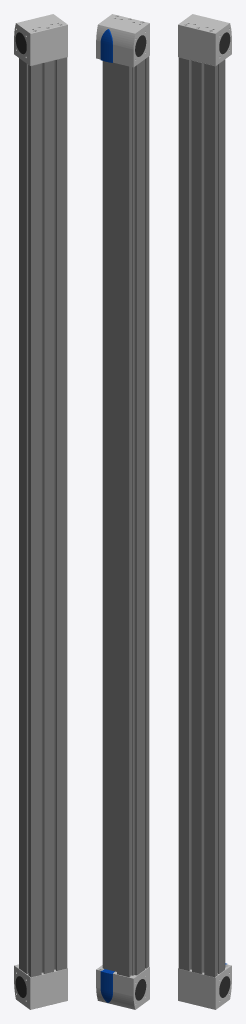
Rendered from EGC-120-3130-TB-KF-0H-GV.dae.
3 views of the same model, side by side, from view 1: azimuth 30°, elevation 25°; view 2: azimuth 150°, elevation 25°; view 3: azimuth 330°, elevation 25° (orthographic).
Visible parts, largest first — view 1: node1, node2, node6, node4, node8; view 2: node1, node2, node6, node7, node3, node8, node4; view 3: node1, node2, node6, node5, node0.
Boxes of the visible parts, x1=… form: node1: x1=19, y1=57, x2=67, y2=977; node2: x1=14, y1=14, x2=67, y2=65; node6: x1=14, y1=964, x2=67, y2=1009; node4: x1=15, y1=32, x2=26, y2=54; node8: x1=15, y1=976, x2=26, y2=997; node1: x1=102, y1=56, x2=149, y2=976; node2: x1=96, y1=14, x2=149, y2=67; node6: x1=96, y1=965, x2=149, y2=1009; node7: x1=100, y1=969, x2=114, y2=1002; node3: x1=100, y1=29, x2=112, y2=62; node8: x1=135, y1=979, x2=146, y2=1000; node4: x1=135, y1=35, x2=146, y2=56; node1: x1=178, y1=57, x2=225, y2=977; node2: x1=178, y1=14, x2=231, y2=65; node6: x1=178, y1=964, x2=231, y2=1009; node5: x1=219, y1=32, x2=230, y2=54; node0: x1=219, y1=976, x2=230, y2=997.
Bounding box in the file's own units: 0.12 × 0.0959 × 2.99.
